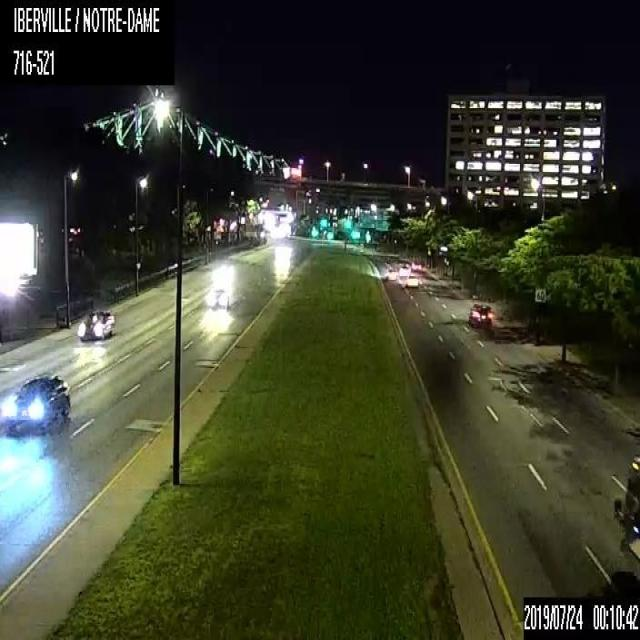bus: (612, 452, 639, 595)
vehicle: (3, 374, 71, 436), (77, 307, 116, 340), (466, 299, 494, 329), (206, 286, 229, 309), (383, 264, 395, 280), (406, 273, 417, 287), (398, 264, 409, 276), (411, 258, 420, 272)
